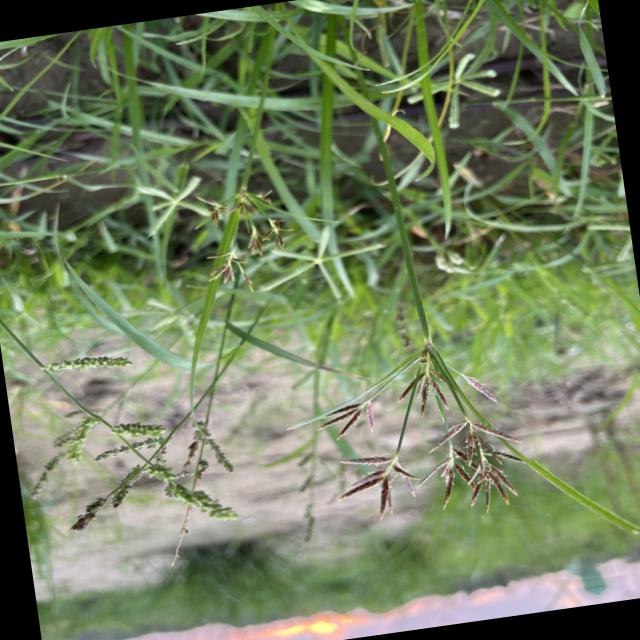cyperus: (280, 317, 536, 540), (182, 177, 302, 303)
